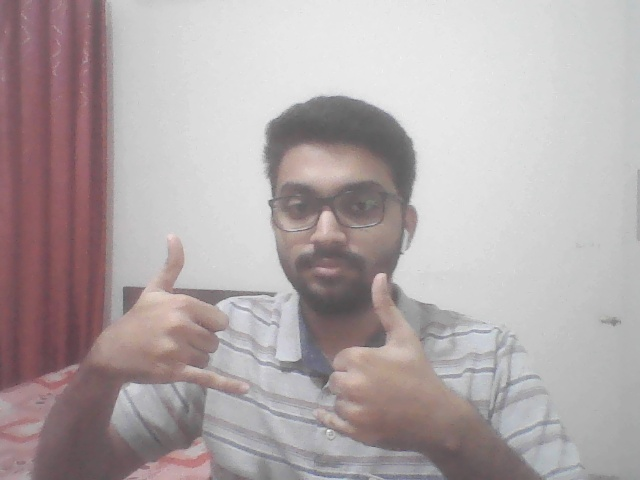play: (68, 227, 487, 466)
